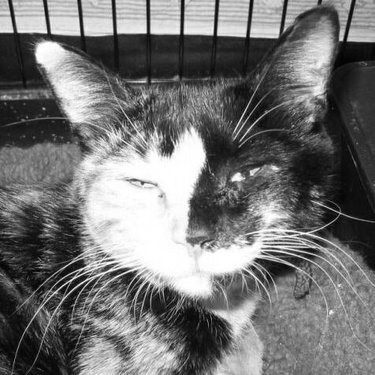cat: (9, 5, 361, 365)
